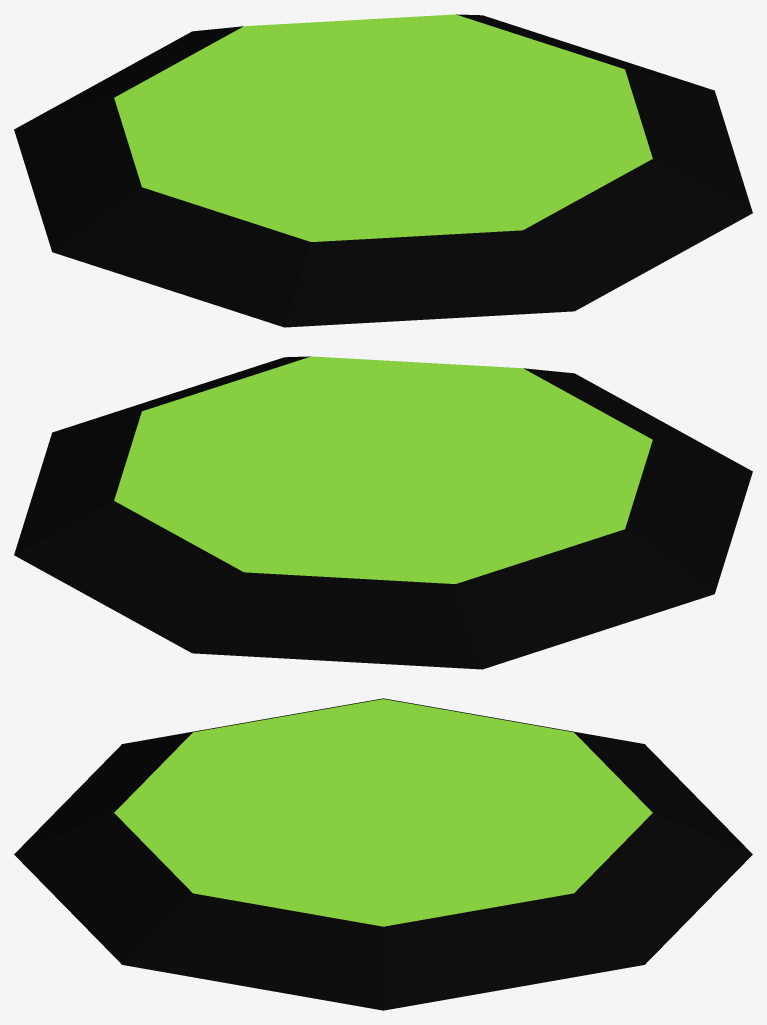
Rendered from SM_ConcertAltar_002.fbx.
The picture shows the model from 3 angles, top to bottom: view 1: azimuth 30°, elevation 25°; view 2: azimuth 150°, elevation 25°; view 3: azimuth 270°, elevation 25°; orthographic projection. The views are drawn at different scales.
Visible parts, largest first — view 1: Cube.037; view 2: Cube.037; view 3: Cube.037.
Part boxes in pixels (x1,y1,x2,y2): Cube.037: (14, 14, 752, 327); Cube.037: (14, 356, 752, 669); Cube.037: (14, 698, 752, 1010).
Size of the model in its own units: 315 by 19.55 by 315.
